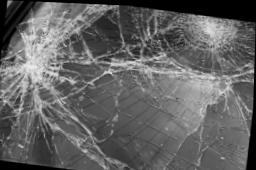Windshield: (0, 1, 256, 170)
